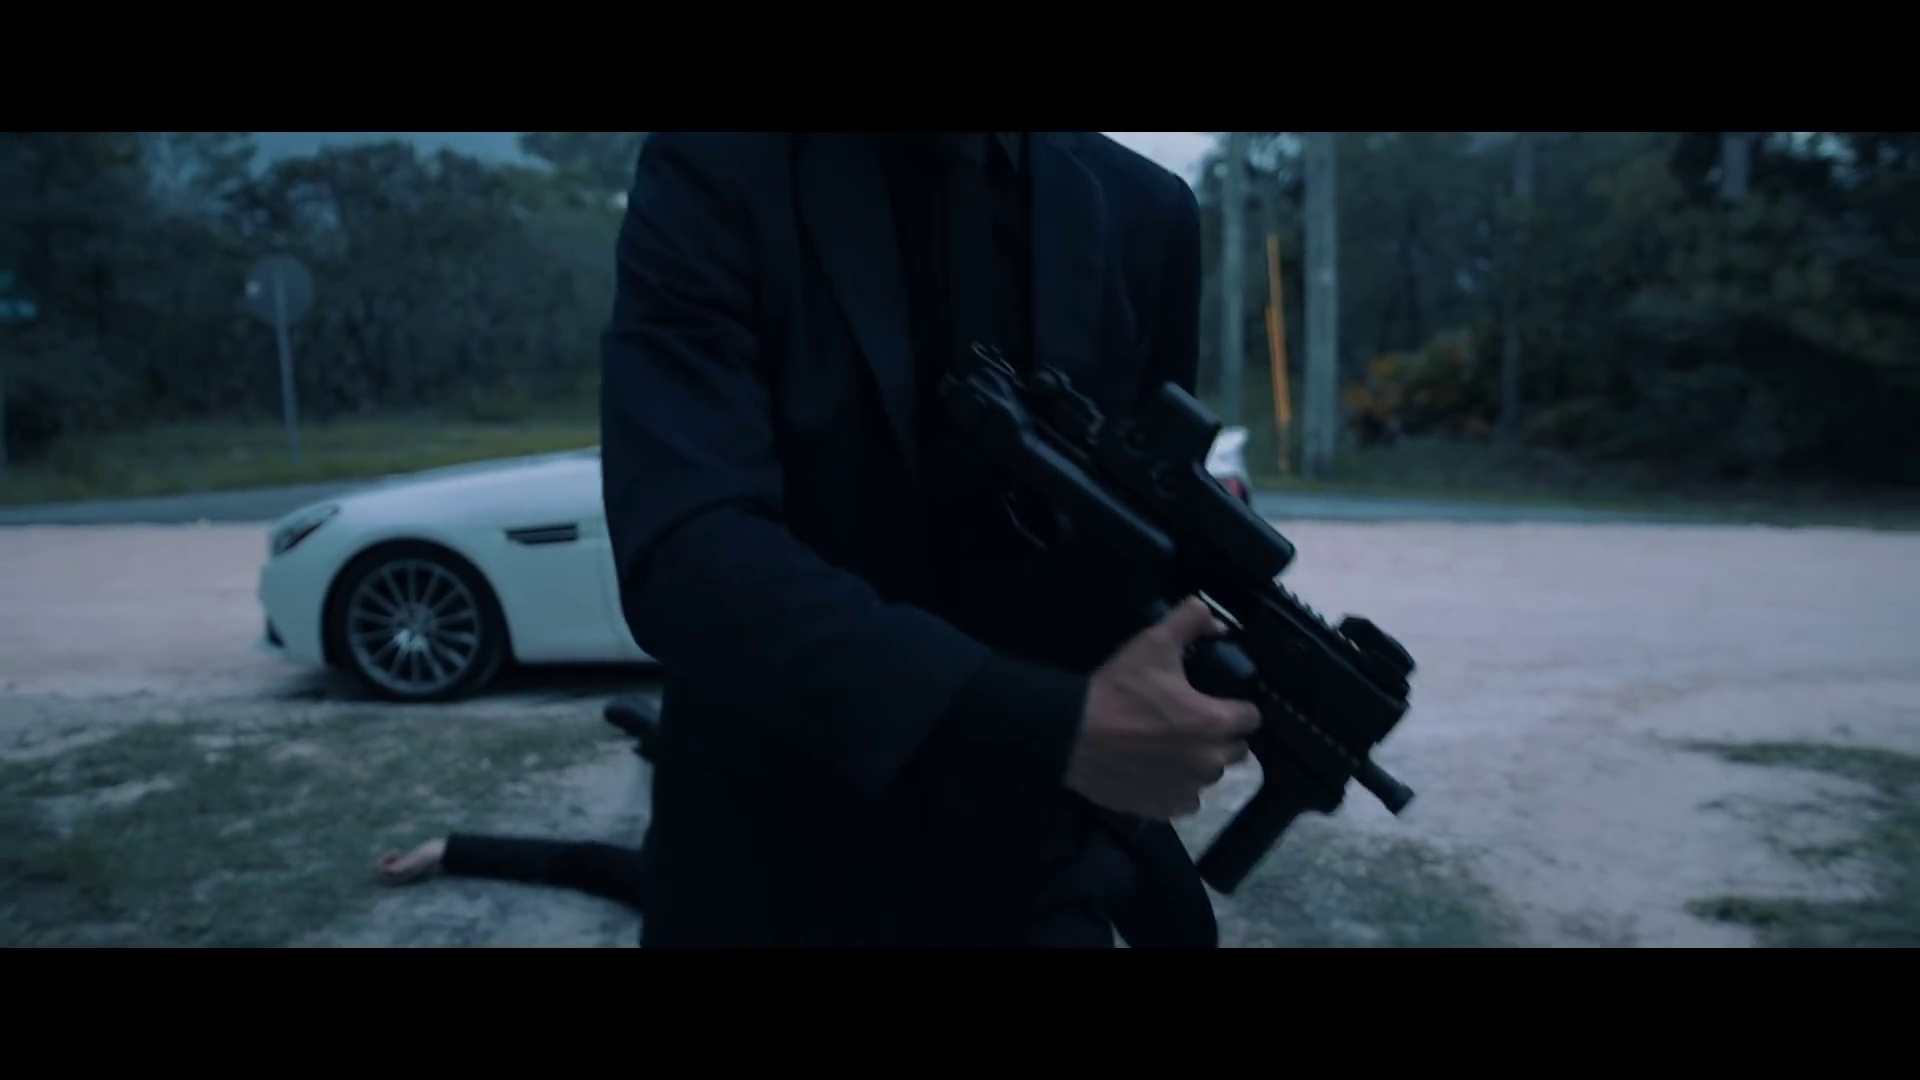gun: (926, 330, 1424, 920)
p_w_gun: (601, 125, 1432, 935)
